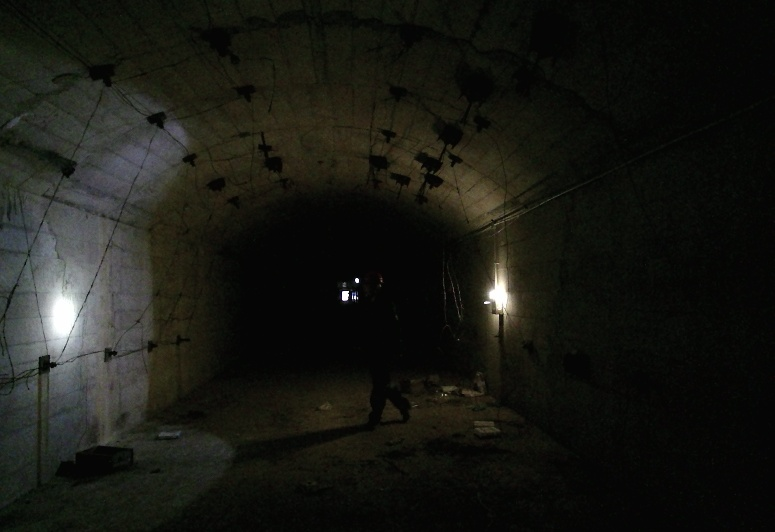person: (349, 271, 417, 432)
